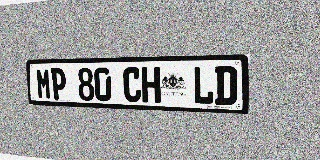0: (94, 67, 111, 101)
8: (77, 68, 95, 101)
C: (123, 67, 141, 102)
D: (215, 66, 237, 105)
H: (141, 67, 161, 103)
L: (193, 66, 214, 105)
M: (36, 68, 52, 100)
P: (50, 68, 67, 100)
